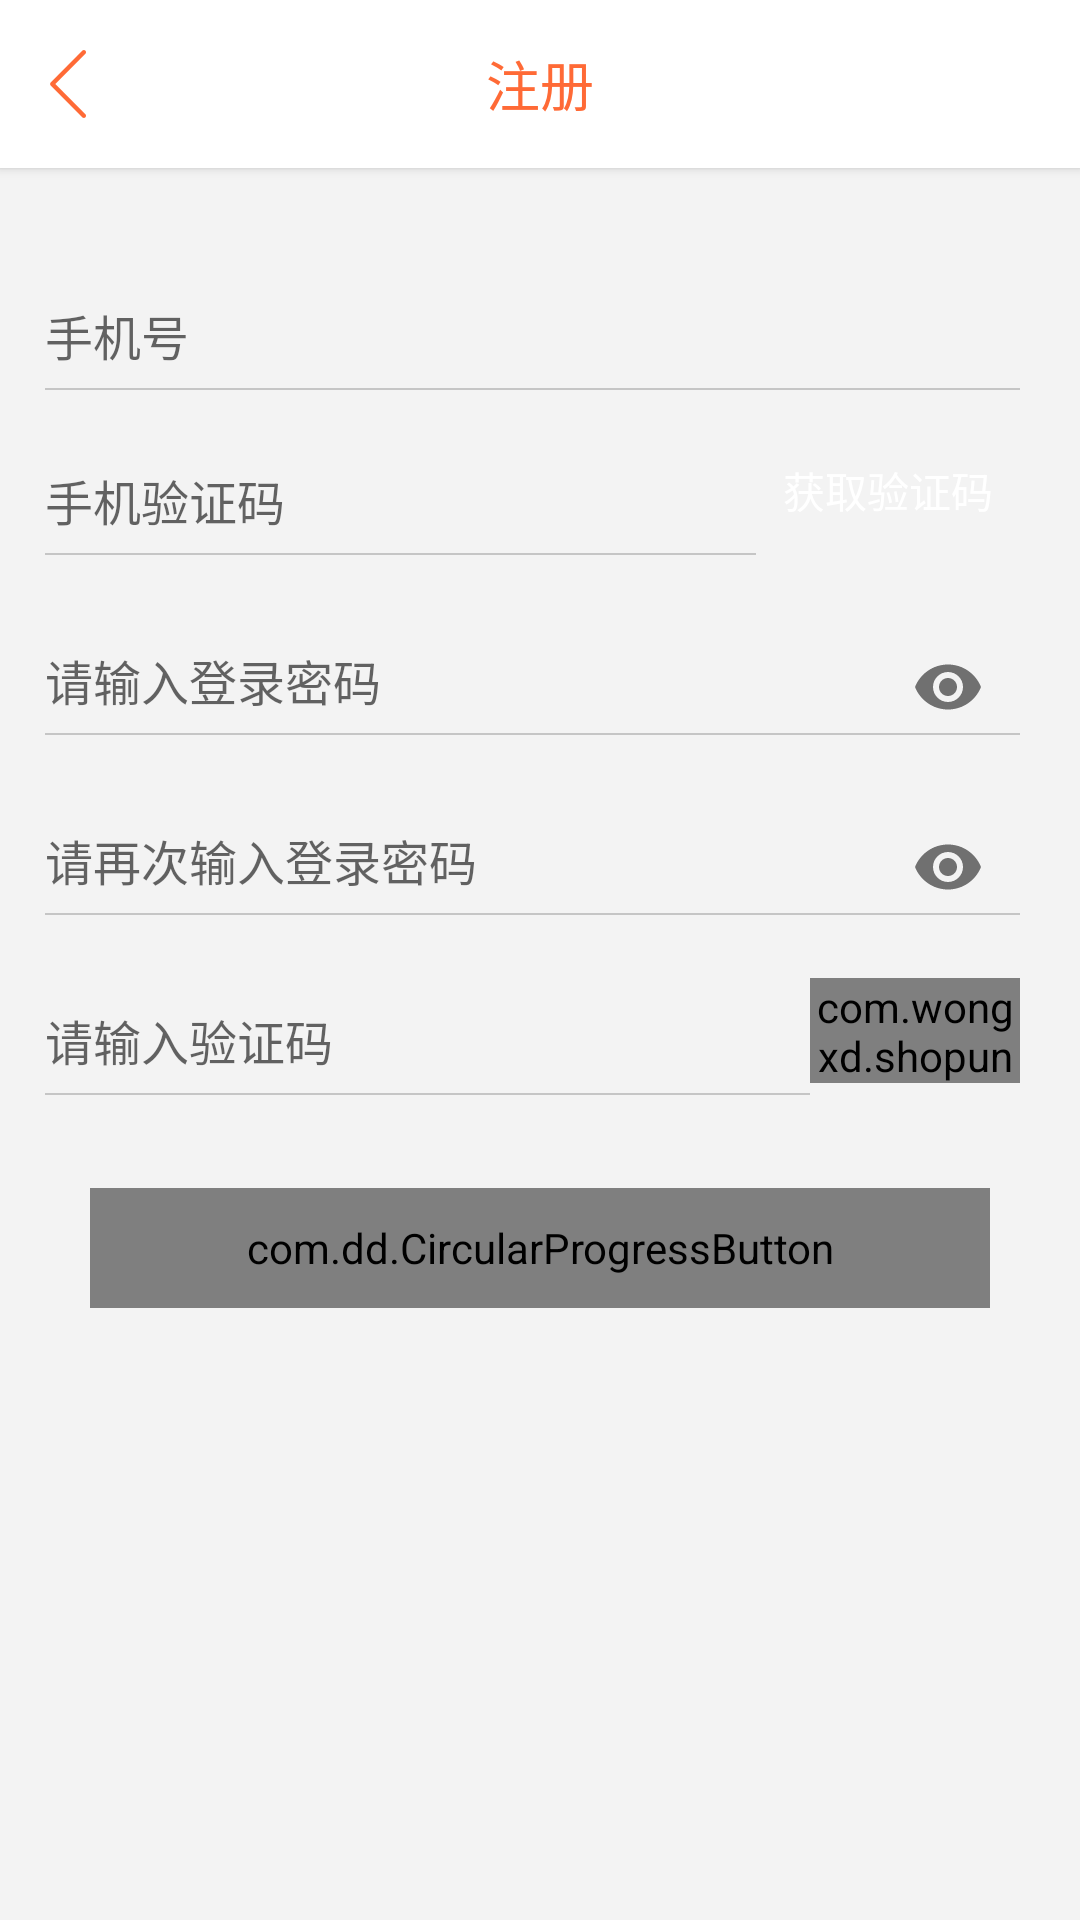

Named icons in this screenshot (1080x1920) and their centers, [x,y]:
return: [68,84]
